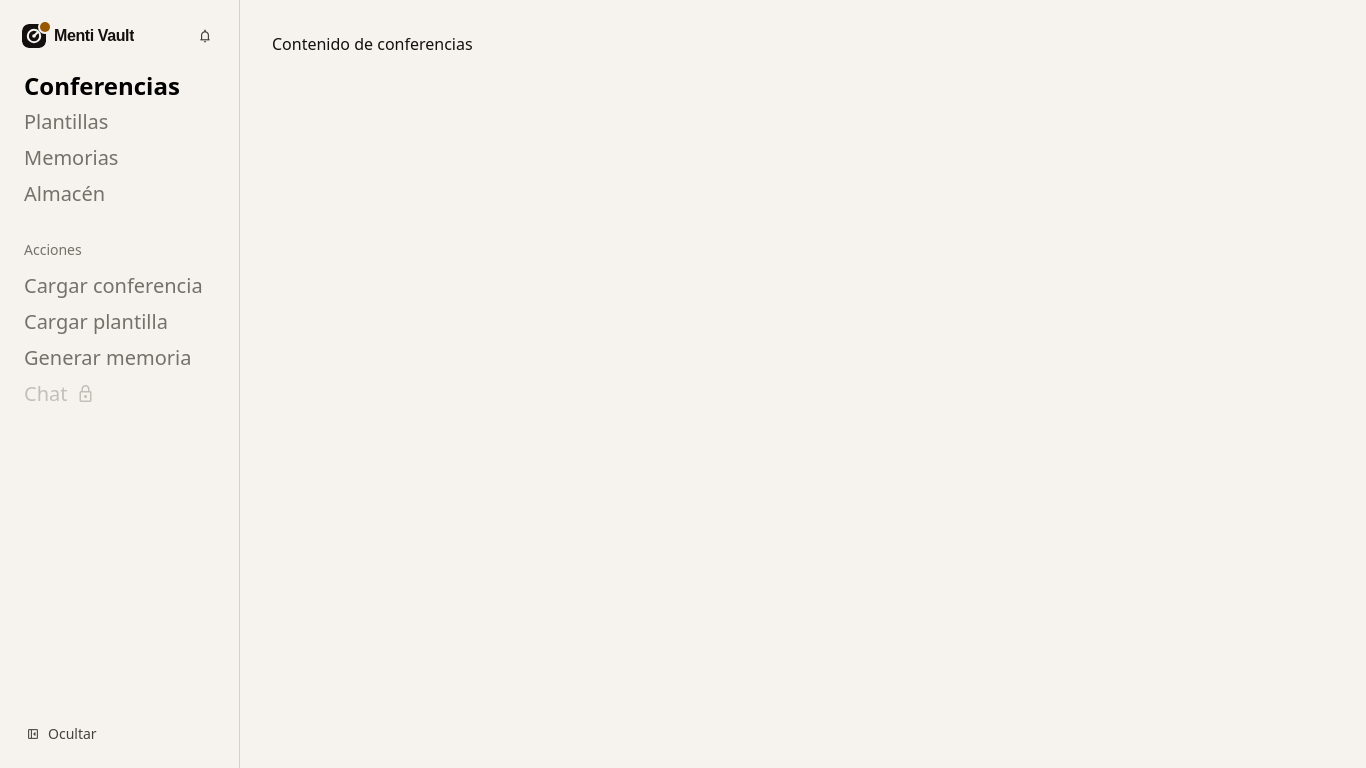
Test: ShellLayout › el menú de cuenta ofrece un atajo a Configuración
What coordinates should you click on to do the following:
click the button with aria-label "cuenta de"
I would click on:
 (81, 36)
Its box is [16, 18, 146, 54].
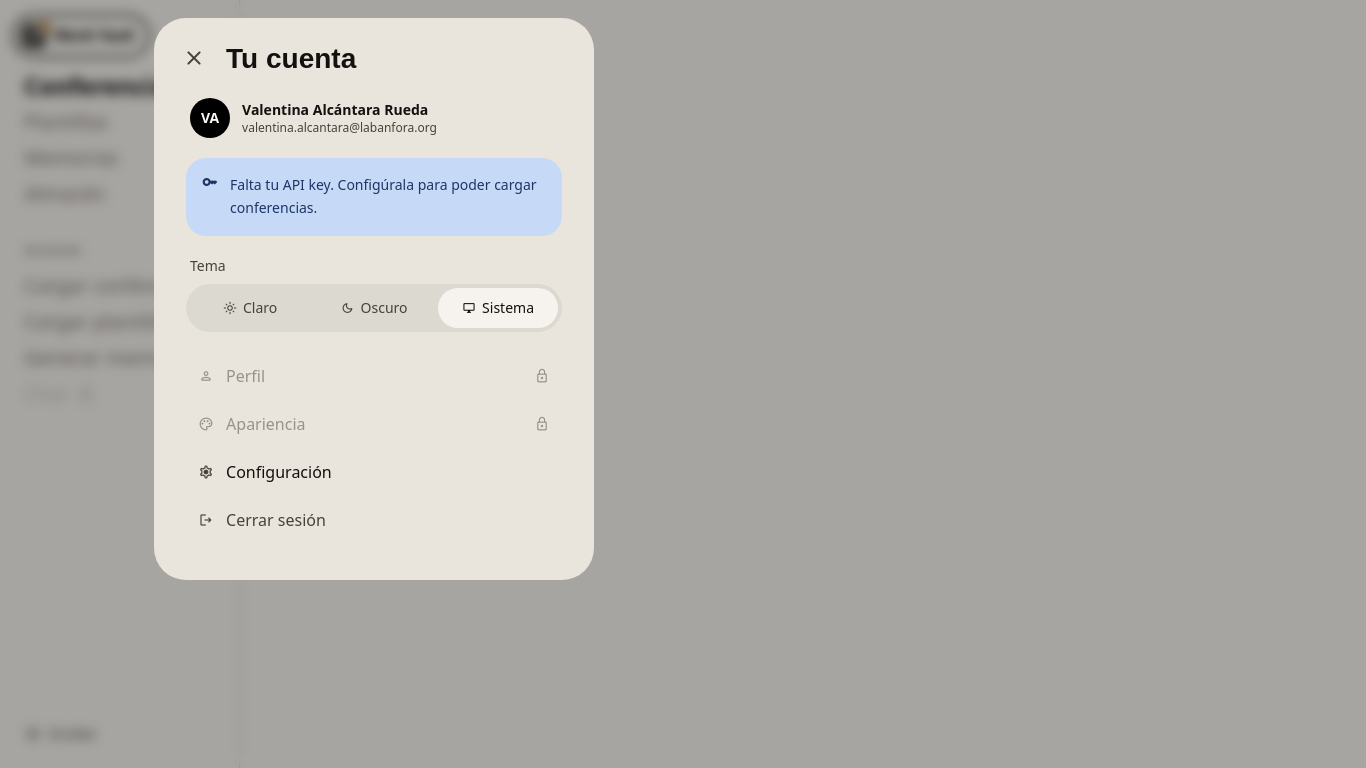
What coordinates should you click on to do the following:
click the link "Configuración"
I would click on:
 (265, 472)
Its box is [198, 460, 332, 482].
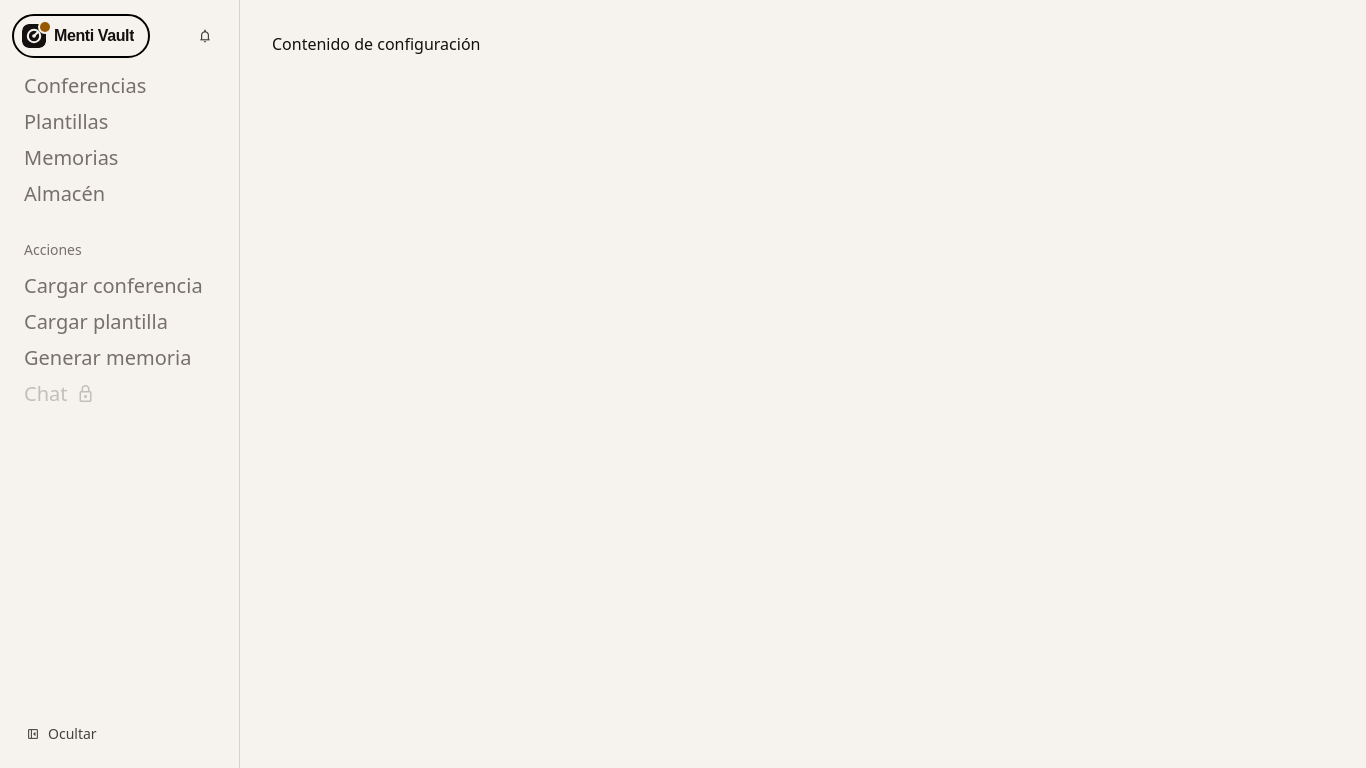
Result: the text "Contenido de configuración" is shown at [272, 33, 480, 55]
